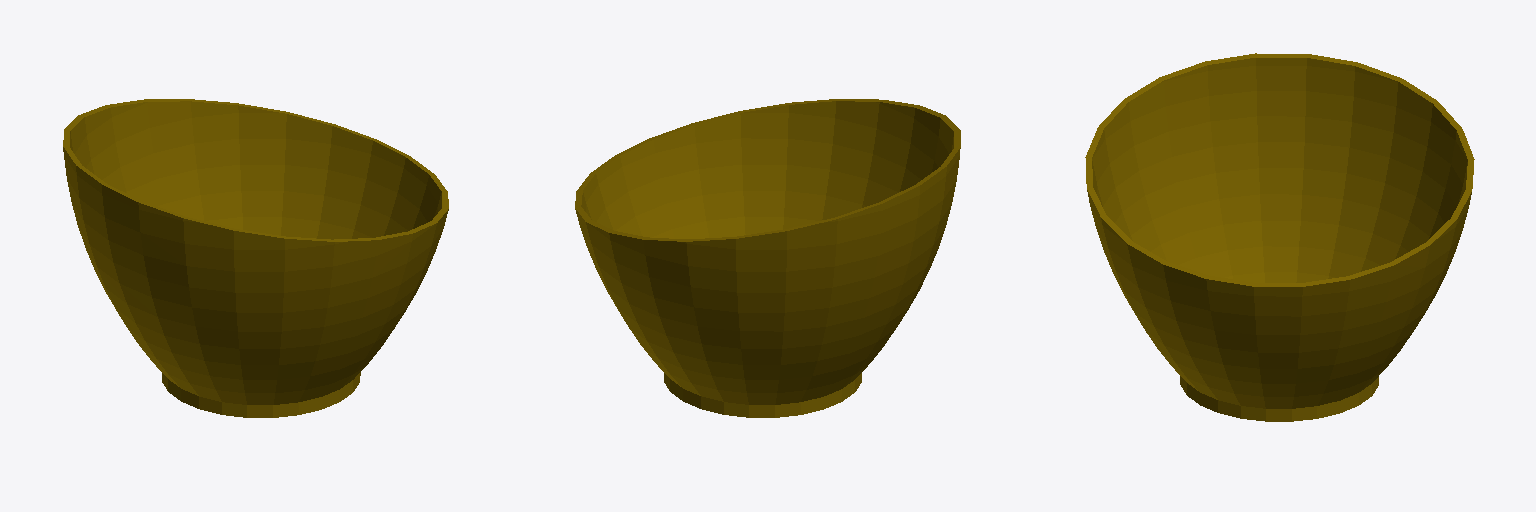
Rendered from bowl2_triangle.obj.
The picture shows the model from 3 angles: view 1: azimuth 30°, elevation 25°; view 2: azimuth 150°, elevation 25°; view 3: azimuth 270°, elevation 25°; orthographic projection.
Visible parts, largest first — view 1: Layer0_001; view 2: Layer0_001; view 3: Layer0_001.
Part boxes in pixels (x1,y1,x2,y2): Layer0_001: (63,99,448,417); Layer0_001: (575,99,960,417); Layer0_001: (1085,53,1474,421).
Bounding box in the file's own units: 10.67 × 7.42 × 10.79.